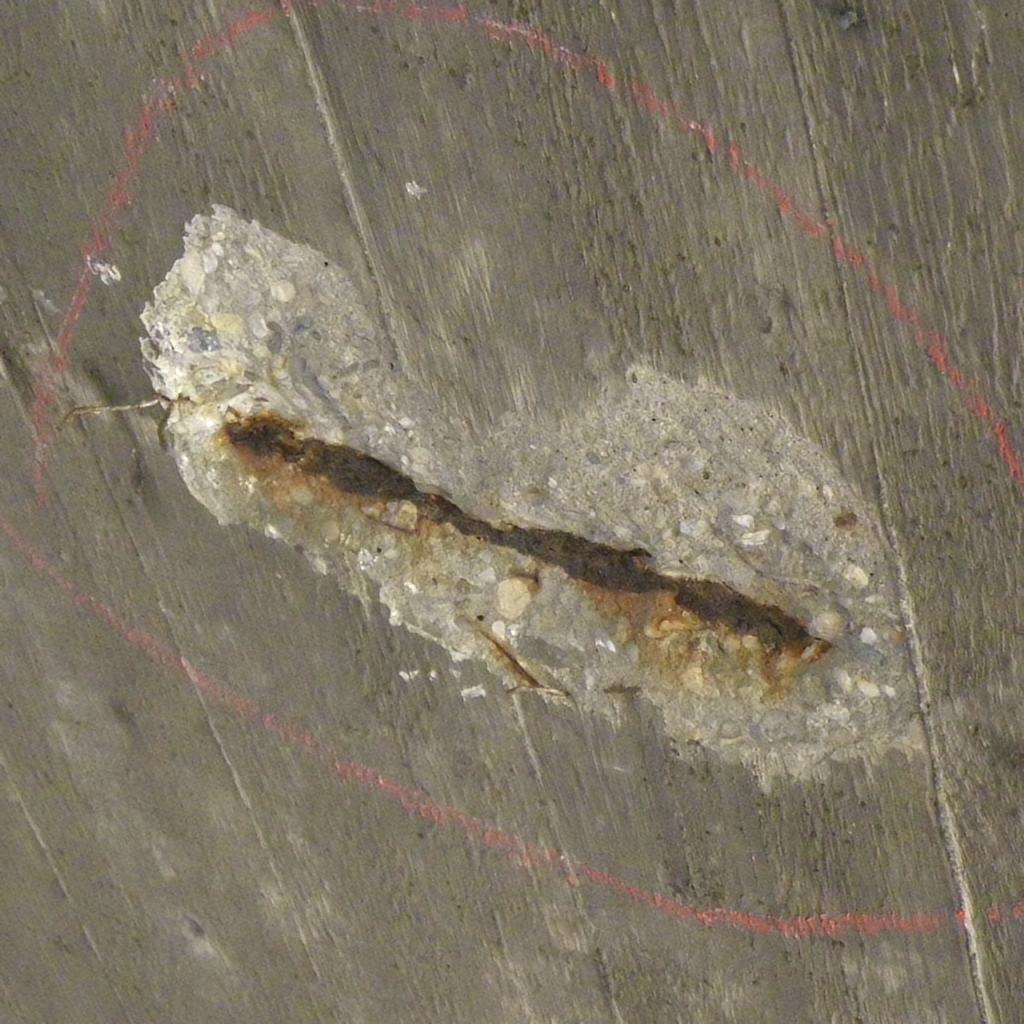exposed_rebar: (222, 418, 826, 661)
spalling: (142, 206, 920, 776)
